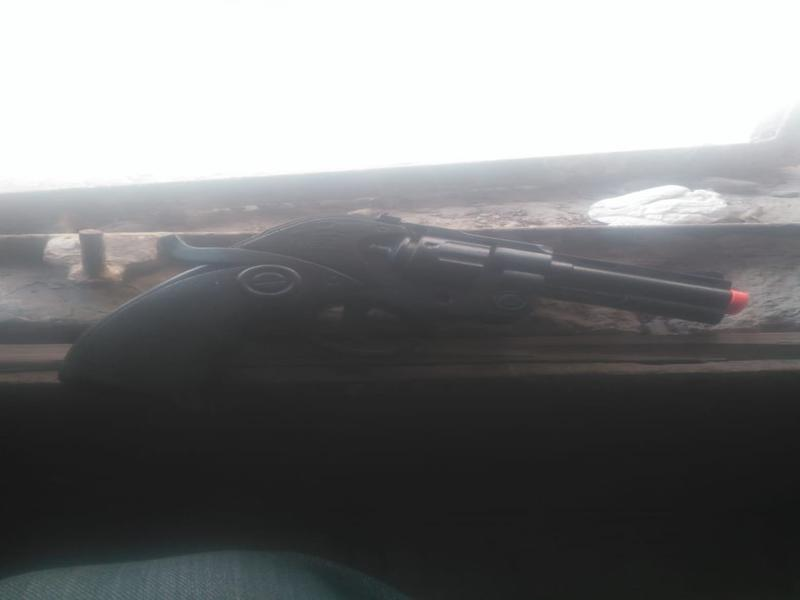gun: (58, 188, 764, 445)
